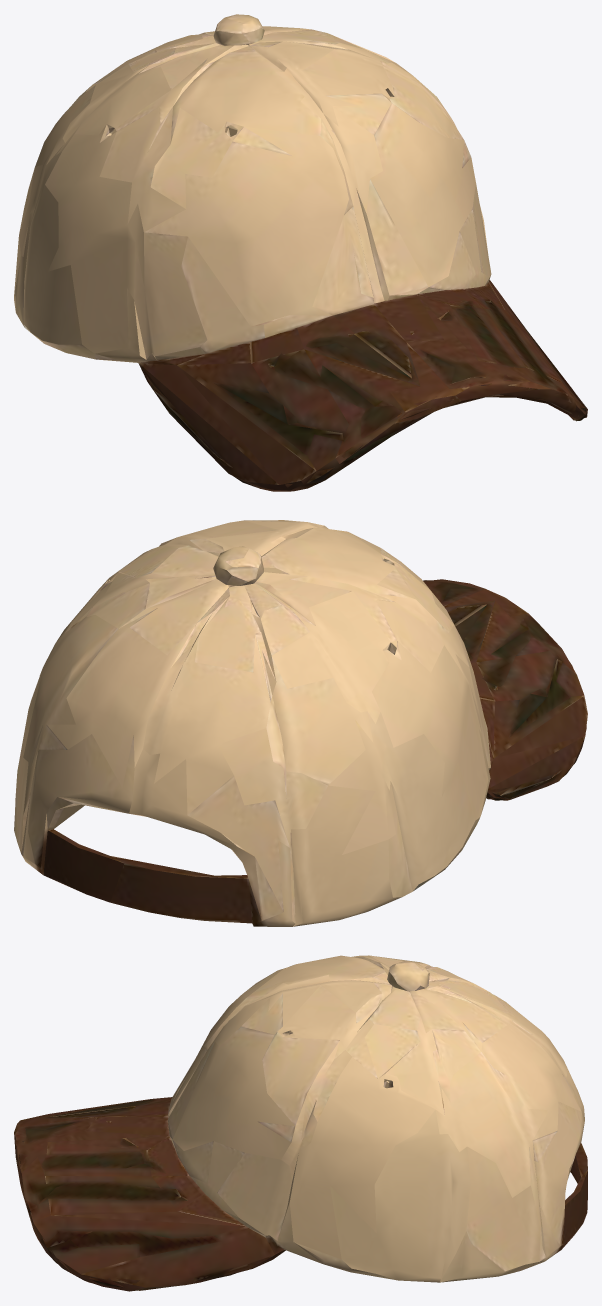
Rendered from cap.glb.
3 views of the same model, one above another, from view 1: azimuth 30°, elevation 25°; view 2: azimuth 150°, elevation 25°; view 3: azimuth 270°, elevation 25° (orthographic). The views are drawn at different scales.
Bounding box in the file's own units: 1.32 × 0.9492 × 1.9.
Materials: 1 (1 with a texture image).
